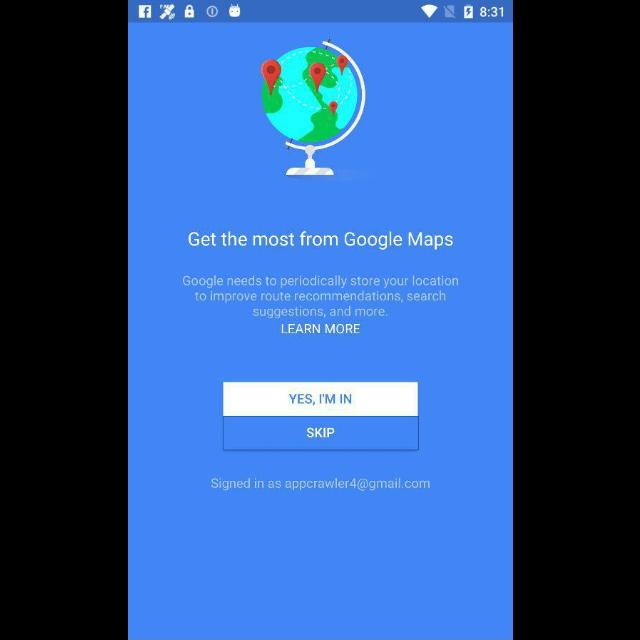image: (260, 37, 366, 176)
text: (182, 275, 458, 319), (187, 231, 453, 251), (210, 478, 430, 490), (280, 324, 360, 334)
textbutton: (222, 416, 418, 450), (222, 382, 418, 416)
uppertaskbar: (128, 1, 512, 23)
